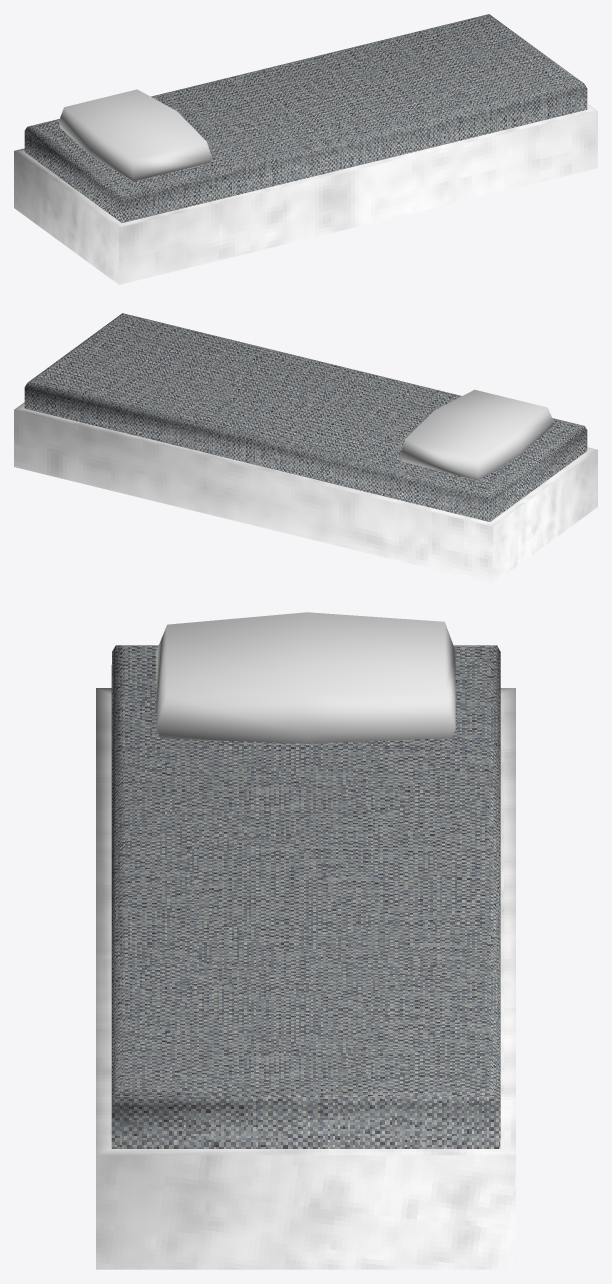
File: bed.glb
3 renders of one model, top to bottom at view 1: azimuth 30°, elevation 25°; view 2: azimuth 150°, elevation 25°; view 3: azimuth 270°, elevation 25°, orthographic. The views are drawn at different scales.
Visible parts, largest first — view 1: Bed, Pillow; view 2: Bed, Pillow; view 3: Bed, Pillow.
Boxes of the visible parts, x1,y1,x2,y2 form: Bed: (14, 14, 597, 284); Pillow: (58, 89, 212, 181); Bed: (14, 313, 597, 583); Pillow: (399, 389, 553, 480); Bed: (96, 645, 515, 1269); Pillow: (156, 612, 455, 743).
Bounding box in the file's own units: 2.63 × 0.5685 × 1.
2 materials, 2 textured.
